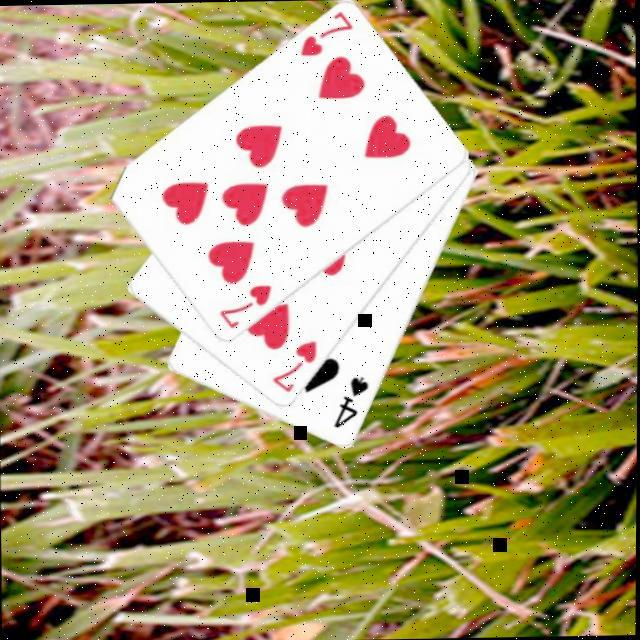4S: (328, 374, 371, 434)
7H: (295, 9, 354, 62), (268, 339, 320, 398), (213, 284, 274, 334)
